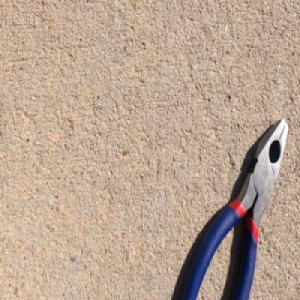Pliers: (175, 114, 283, 300)
